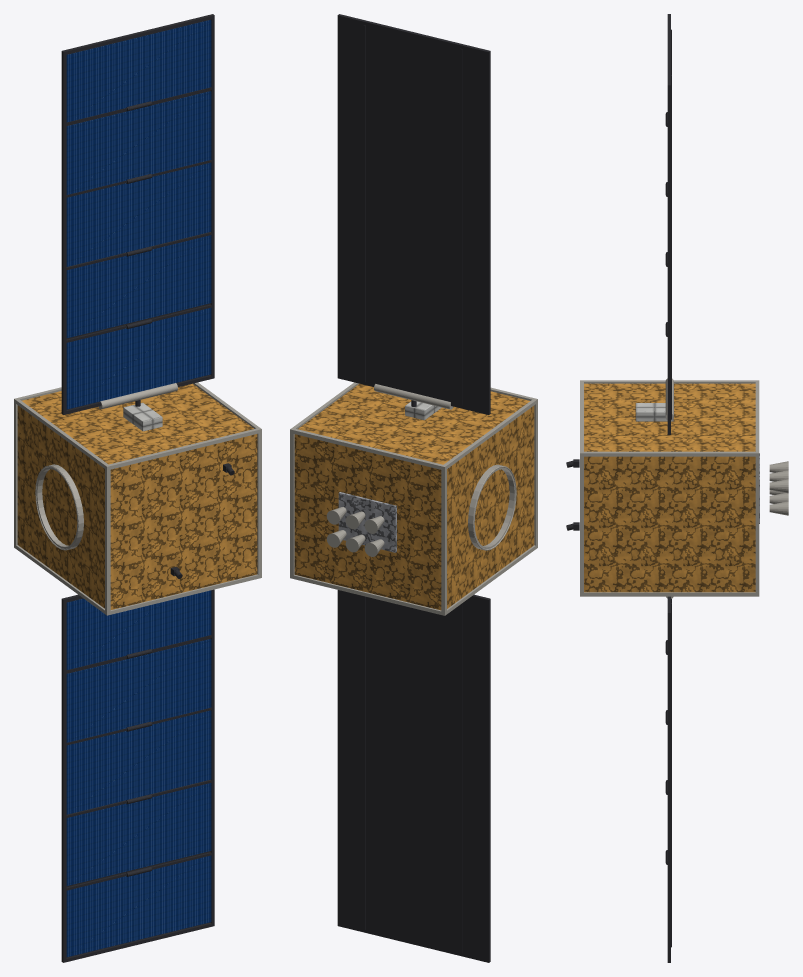
The model's file is rpo_demo_client_marman_proxy.glb.
3 views of the same model, side by side, from view 1: azimuth 30°, elevation 25°; view 2: azimuth 150°, elevation 25°; view 3: azimuth 270°, elevation 25° (orthographic). The views are drawn at different scales.
Parts seen in each view (by area): view 1: solar_wing_r, solar_wing_l, bus, bus_frame, servicing_0_marman_ring_aft_marman, equip_0, solar_hinge_r; view 2: solar_wing_r, solar_wing_l, bus, bus_frame, payload_0_feed_array, servicing_0_marman_ring_aft_marman, solar_hinge_r; view 3: bus, bus_frame, solar_wing_r, solar_wing_l, payload_0_feed_array, equip_0.
Boxes of the visible parts, x1,y1,x2,y2 form: solar_wing_r: (61,14,214,414); solar_wing_l: (61,589,214,962); bus: (17,383,257,609); bus_frame: (14,382,261,615); servicing_0_marman_ring_aft_marman: (35,464,83,550); equip_0: (123,402,162,431); solar_hinge_r: (99,383,177,409); solar_wing_r: (337,14,490,414); solar_wing_l: (337,590,490,962); bus: (294,383,534,610); bus_frame: (290,382,537,615); payload_0_feed_array: (326,492,396,556); servicing_0_marman_ring_aft_marman: (468,464,516,550); solar_hinge_r: (374,384,453,409); bus: (584,383,755,592); bus_frame: (580,380,759,596); solar_wing_r: (665,14,671,434); solar_wing_l: (665,596,671,962); payload_0_feed_array: (759,453,788,523); equip_0: (635,403,673,421).
Bounding box in the file's own units: 2.52 × 13.8 × 3.17.
6 materials, 4 textured.
